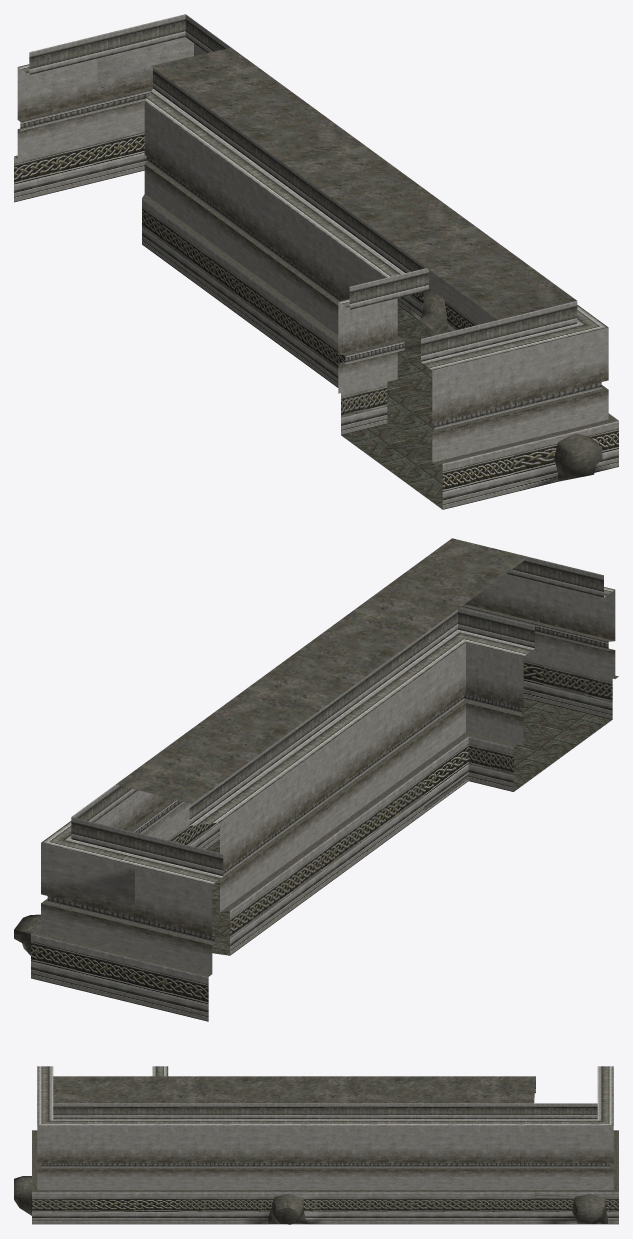
The model's file is DWARF_PALACE_ARKENSTO.fbx.
The picture shows the model from 3 angles, top to bottom: view 1: azimuth 30°, elevation 25°; view 2: azimuth 150°, elevation 25°; view 3: azimuth 270°, elevation 25°; orthographic projection. The views are drawn at different scales.
Visible parts, largest first — view 1: DWARF_PALACE_ARKENSTO; view 2: DWARF_PALACE_ARKENSTO; view 3: DWARF_PALACE_ARKENSTO.
Boxes of the visible parts, x1,y1,x2,y2 form: DWARF_PALACE_ARKENSTO: (14, 14, 618, 509); DWARF_PALACE_ARKENSTO: (14, 538, 618, 1021); DWARF_PALACE_ARKENSTO: (14, 1066, 618, 1224).
Size of the model in its own units: 98081 by 70000 by 342206.
7 materials, 7 textured.
